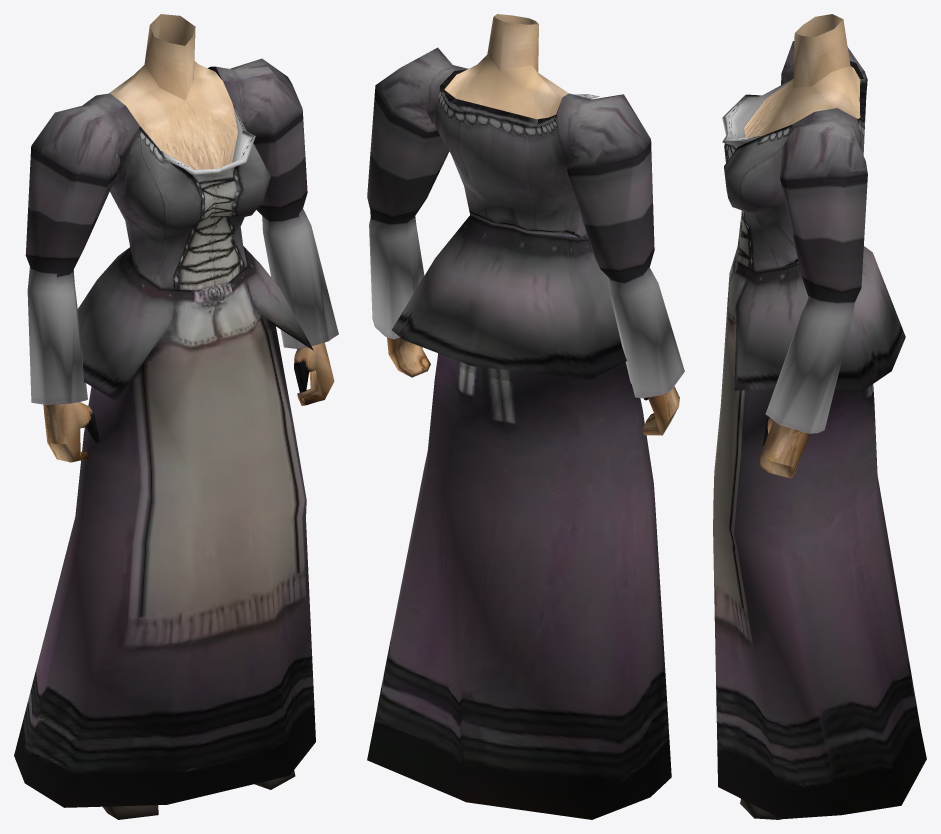
File: ARMOR_BAUBABE_L2.glb
3 views of the same model, side by side, from view 1: azimuth 30°, elevation 25°; view 2: azimuth 150°, elevation 25°; view 3: azimuth 270°, elevation 25° (orthographic).
Parts seen in each view (by area): view 1: ARMOR_BAUBABE_L2; view 2: ARMOR_BAUBABE_L2; view 3: ARMOR_BAUBABE_L2.
Part boxes in pixels (x1=…): ARMOR_BAUBABE_L2: x1=14, y1=14, x2=338, y2=819; ARMOR_BAUBABE_L2: x1=367, y1=14, x2=684, y2=819; ARMOR_BAUBABE_L2: x1=713, y1=14, x2=926, y2=819.
Bounding box in the file's own units: 0.6832 × 1.68 × 0.4292.
Materials: 2 (2 with a texture image).
